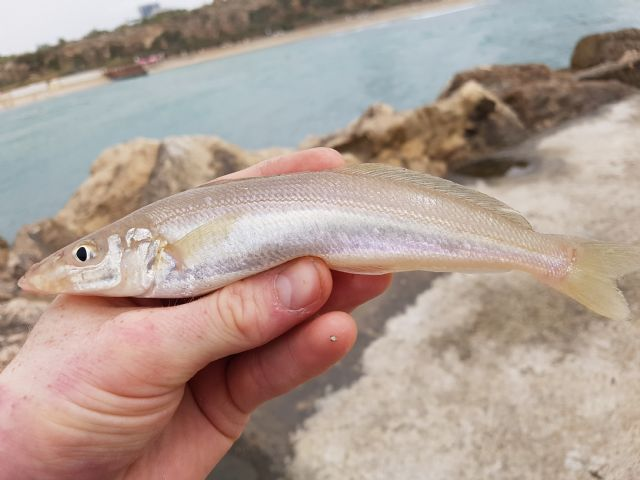kiss: (14, 160, 632, 320)
